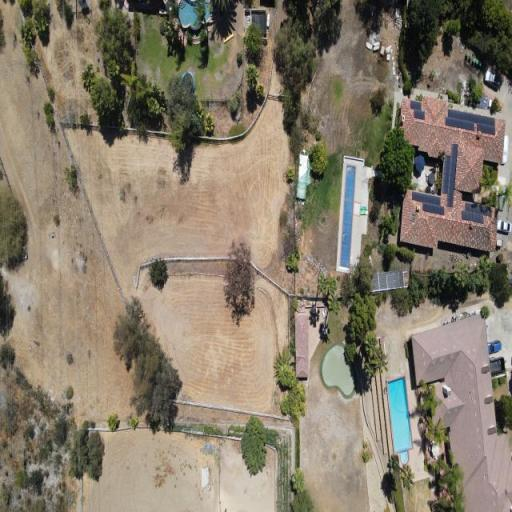solar-panel: (445, 109, 495, 135), (442, 144, 458, 207), (412, 191, 444, 215), (371, 270, 404, 291), (462, 202, 492, 224), (251, 14, 267, 34), (410, 100, 425, 120)
